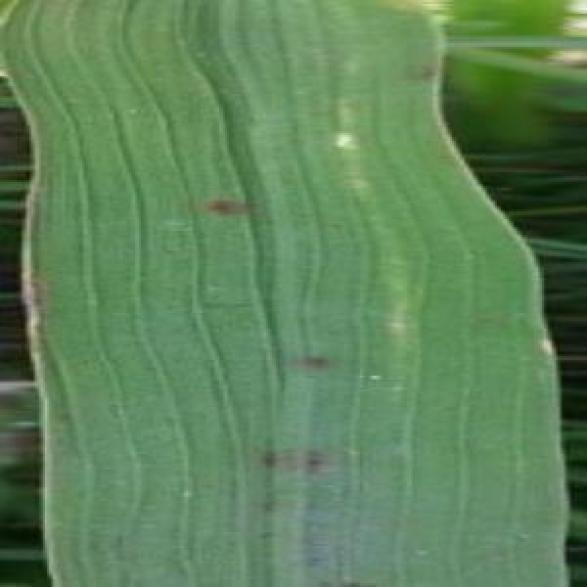Brown_Spot: (198, 184, 260, 223), (282, 339, 332, 378), (397, 53, 442, 94), (245, 439, 288, 478), (294, 443, 332, 478), (248, 485, 284, 519), (294, 550, 332, 569), (252, 524, 280, 544), (309, 573, 337, 585), (342, 575, 366, 585)
